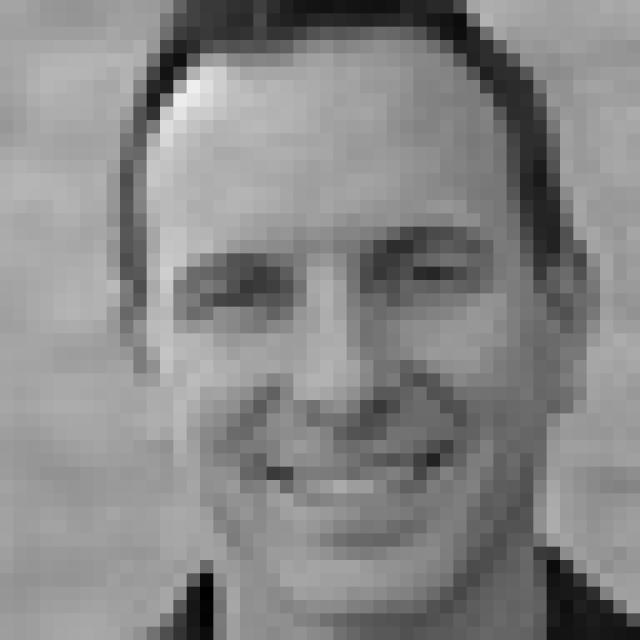happy: (178, 223, 499, 550)
